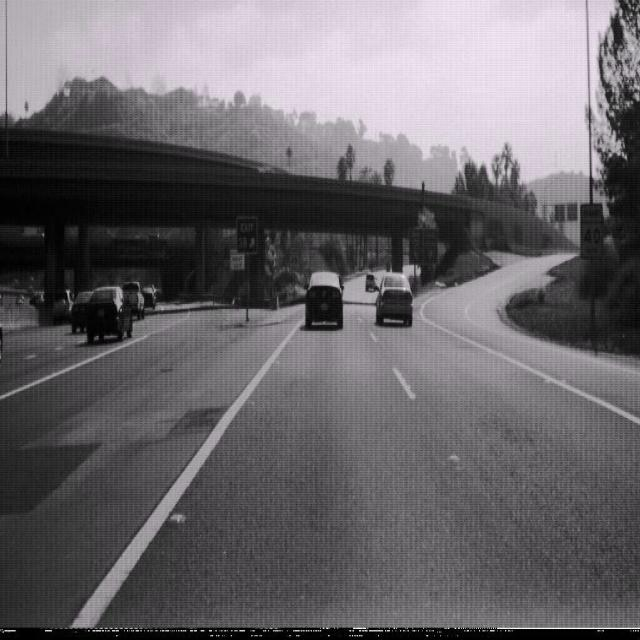speedLimit40: (579, 201, 604, 262)
